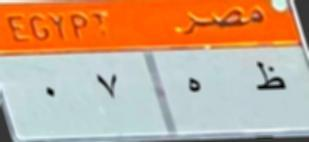0: (42, 78, 57, 108)
7: (94, 68, 120, 105)
Thaa: (250, 54, 289, 101)
haa: (183, 73, 203, 104)
